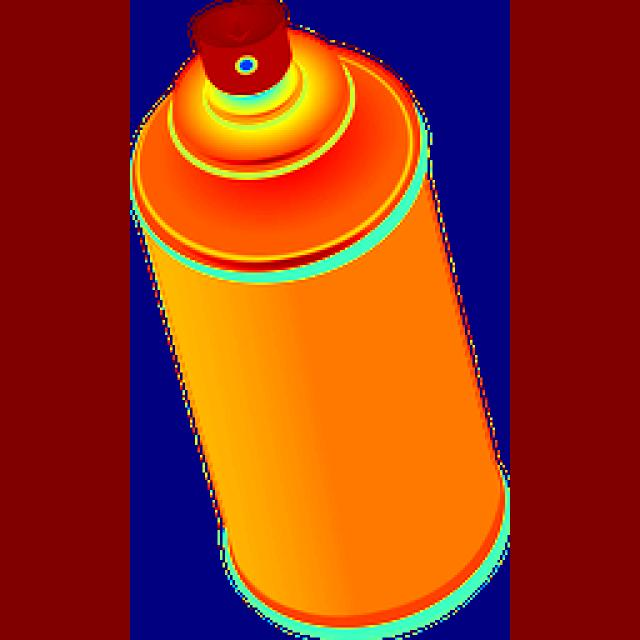Aerosol Cans: (136, 1, 515, 632)
